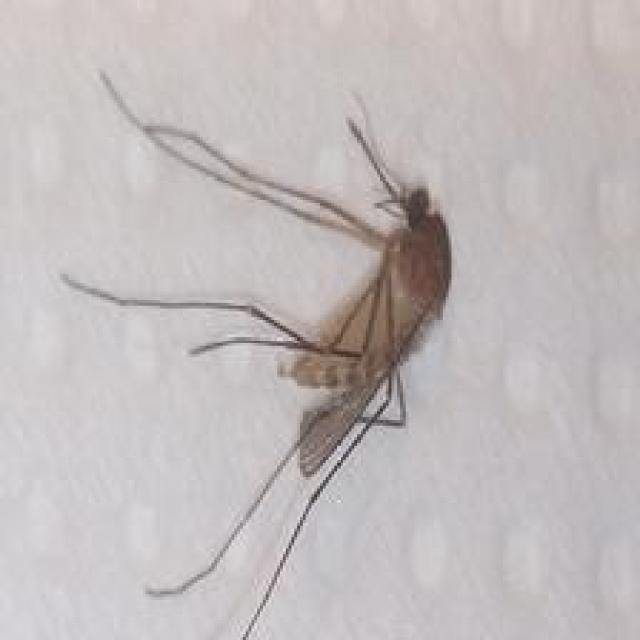Culex: (58, 68, 455, 640)
